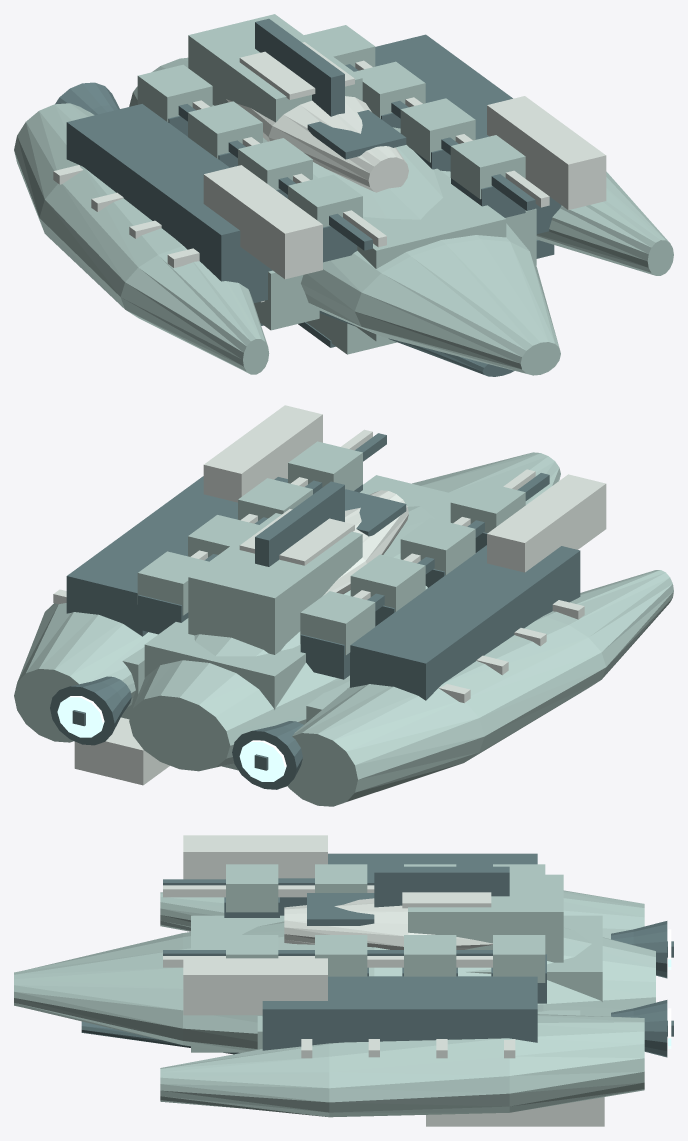
3 renders of one model, top to bottom at view 1: azimuth 30°, elevation 25°; view 2: azimuth 150°, elevation 25°; view 3: azimuth 270°, elevation 25°, orthographic. The views are drawn at different scales.
Bounding box in the file's own units: 17.92 × 7.88 × 23.72.
